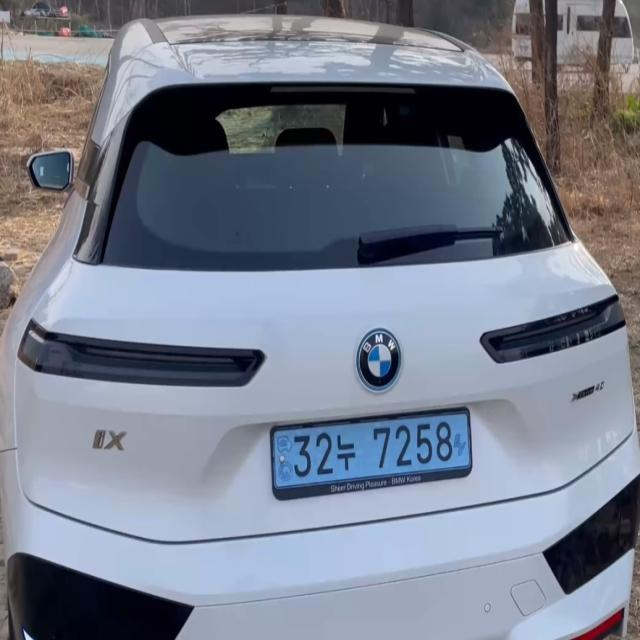car: (244, 389, 494, 522)
carev: (266, 418, 297, 505), (452, 406, 477, 485)
